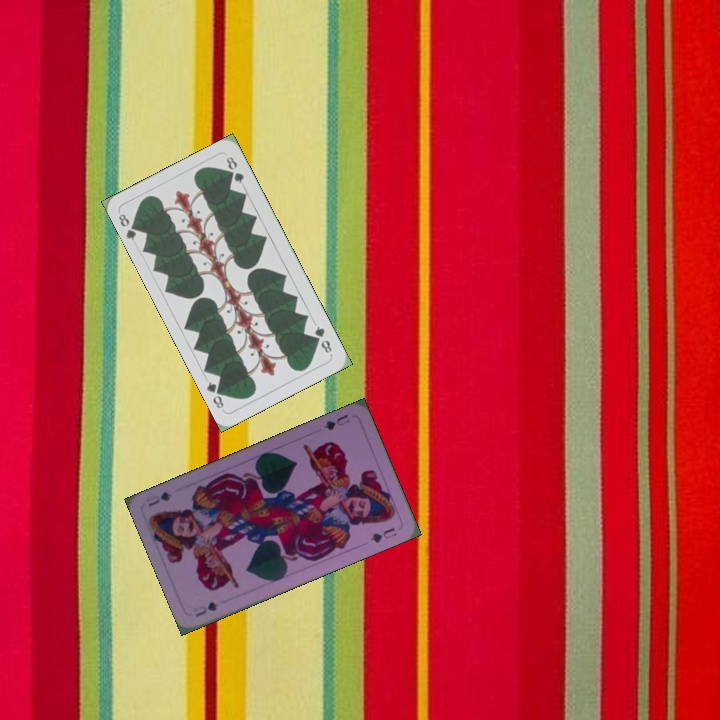G8: (114, 209, 142, 243), (310, 322, 334, 356)
GU: (320, 410, 352, 433), (189, 598, 221, 619)
